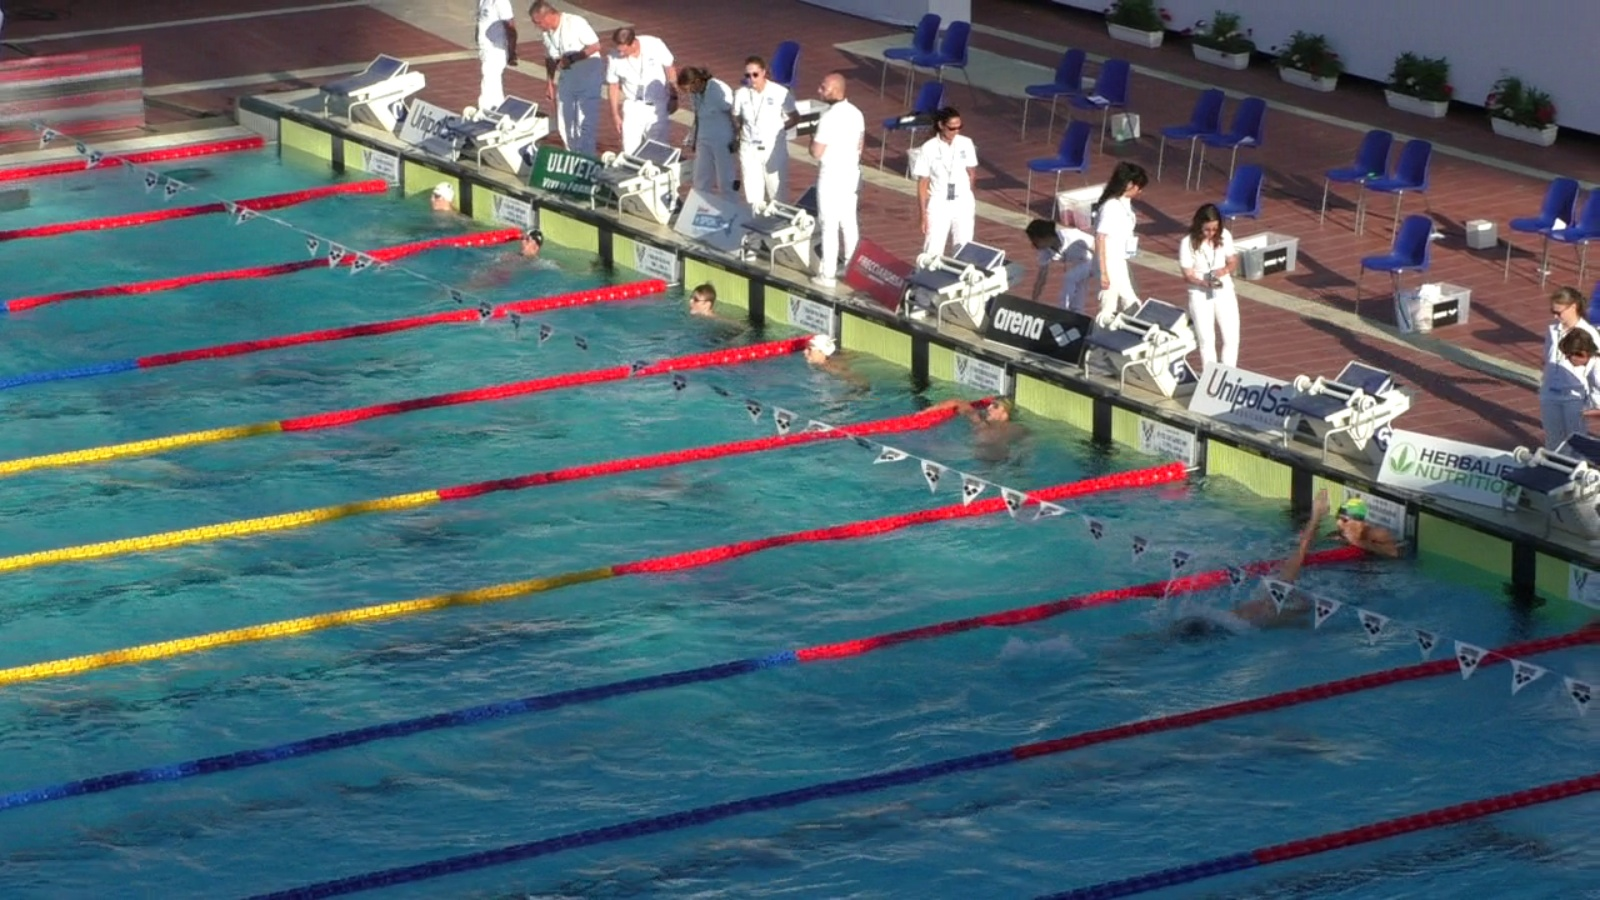swimmerwdd: (1105, 488, 1337, 663), (942, 393, 1035, 481), (449, 227, 555, 304), (359, 173, 459, 251), (795, 335, 882, 416), (659, 280, 730, 363), (1327, 497, 1401, 559)
